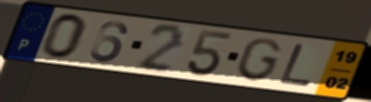0: (38, 13, 94, 61)
2: (134, 22, 191, 75)
5: (184, 28, 236, 79)
6: (90, 21, 130, 64)
G: (233, 37, 285, 84)
L: (277, 42, 315, 88)
